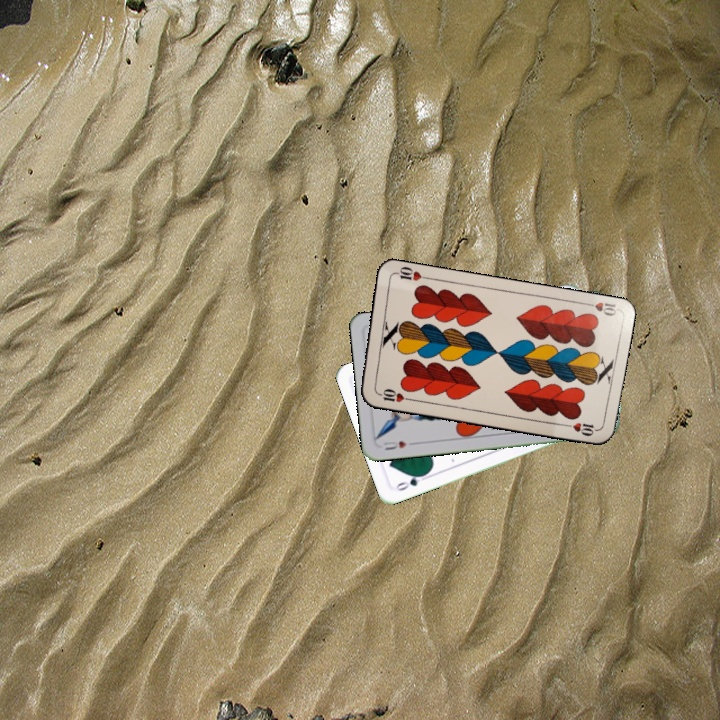GO: (391, 469, 431, 494)
H10: (579, 298, 620, 319), (373, 385, 413, 405)
HU: (380, 437, 409, 453)
